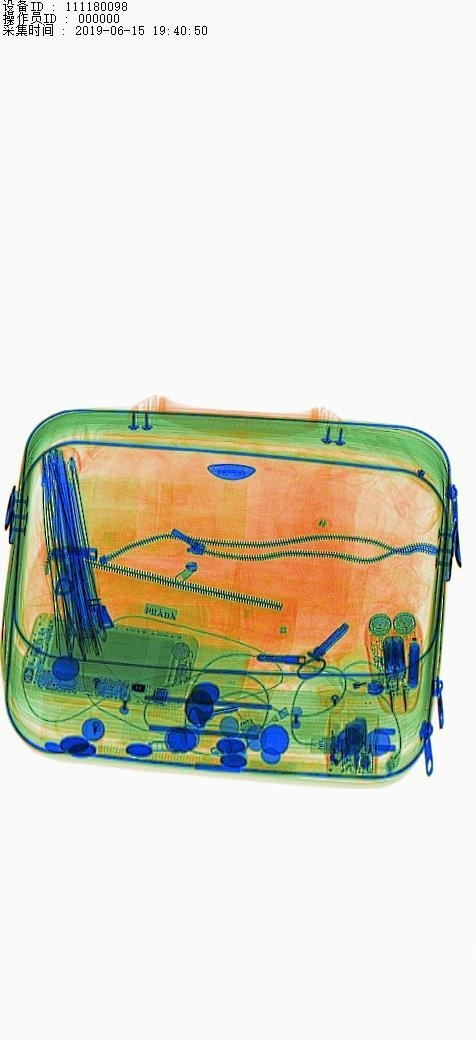NonmetallicFire: (312, 663, 406, 727)
